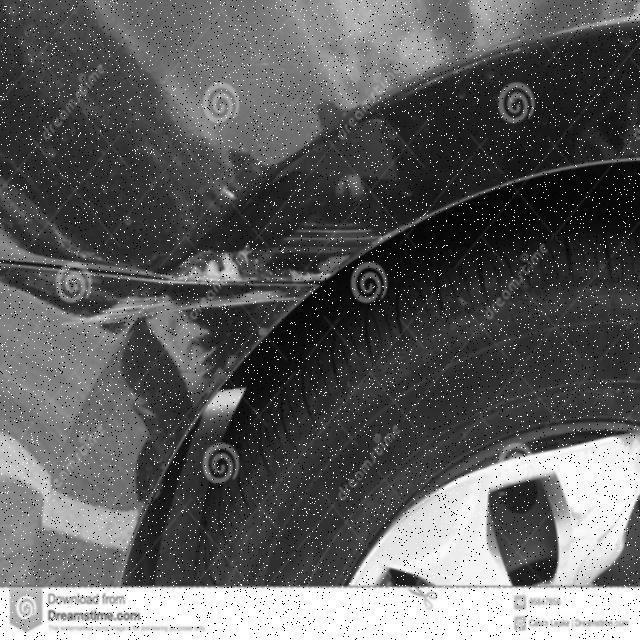quaterpanel-dent: (1, 2, 640, 325)
